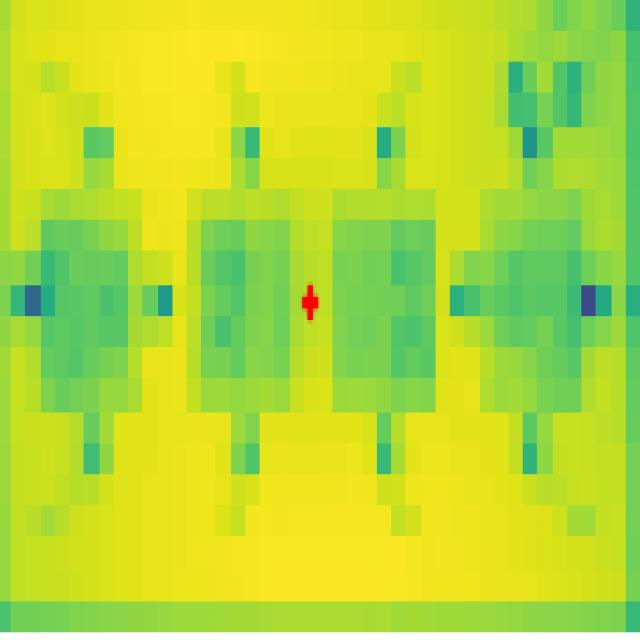Concrete: (481, 188, 582, 412)
Glass: (334, 192, 436, 420)
Metal: (40, 192, 143, 414)
Wood: (188, 188, 292, 412)
